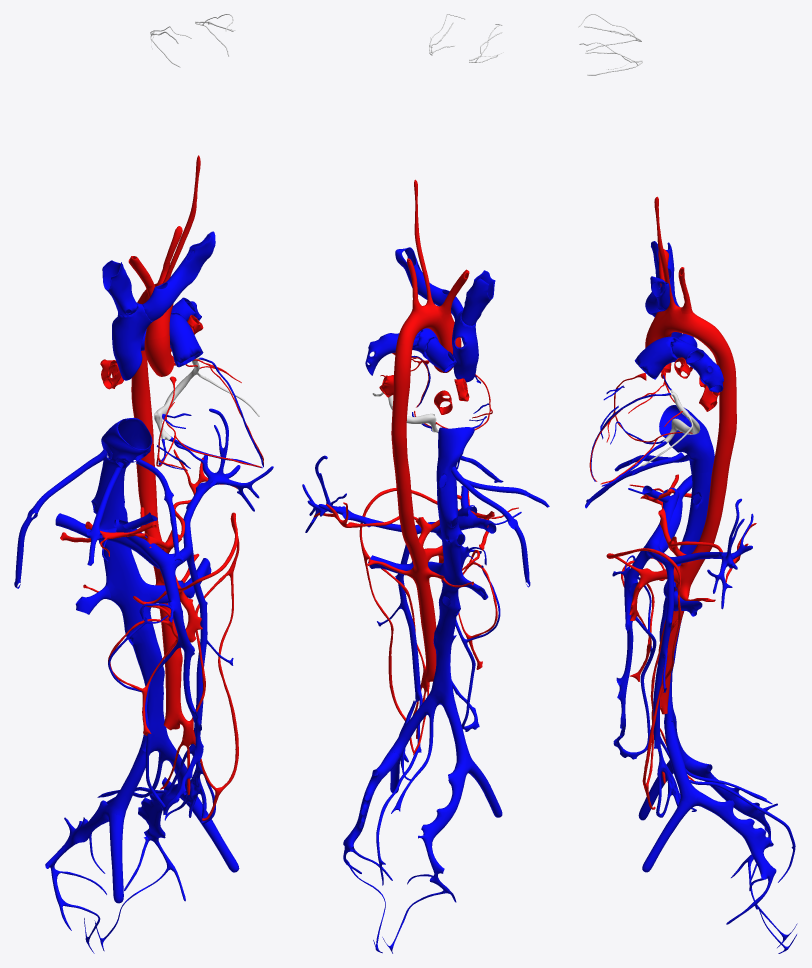
The model's file is vh_m_blood_vasculature-40.fbx.
3 renders of one model, left to right at view 1: azimuth 30°, elevation 25°; view 2: azimuth 150°, elevation 25°; view 3: azimuth 270°, elevation 25°, orthographic. The views are drawn at different scales.
Parts seen in each view (by area): view 1: VH_M_inferior_vena_cava_b, VH_M_descending_aorta_b, VH_M_superior_mesenteric_vein, VH_M_inferior_vena_cava_a, VH_M_splenic_vein, VH_M_brachiocephalic_vein_L, VH_M_superior_vena_cava, VH_M_marginal_artery_of_Drummond, VH_M_descending_aorta_a, VH_M_inferior_mesenteric_vein, VH_M_brachiocephalic_vein_R, VH_M_pulmonary_trunk (+18 smaller); view 2: VH_M_inferior_vena_cava_b, VH_M_descending_aorta_b, VH_M_descending_aorta_a, VH_M_inferior_vena_cava_a, VH_M_internal_iliac_vein_R, VH_M_aortic_arch, VH_M_superior_vena_cava, VH_M_splenic_vein, VH_M_internal_iliac_vein_L, VH_M_brachiocephalic_vein_R, VH_M_brachiocephalic_vein_L, VH_M_marginal_artery_of_Drummond (+8 smaller); view 3: VH_M_descending_aorta_a, VH_M_descending_aorta_b, VH_M_inferior_vena_cava_b, VH_M_inferior_vena_cava_a, VH_M_internal_iliac_vein_L, VH_M_aortic_arch, VH_M_splenic_vein, VH_M_superior_mesenteric_vein, VH_M_pulmonary_artery_L, VH_M_inferior_mesenteric_vein, VH_M_internal_iliac_vein_R, VH_M_marginal_artery_of_Drummond (+13 smaller).
Boxes of the visible parts, x1,y1,x2,y2 form: VH_M_inferior_vena_cava_b: (91,474,169,753); VH_M_descending_aorta_b: (136,459,182,730); VH_M_superior_mesenteric_vein: (158,564,203,812); VH_M_inferior_vena_cava_a: (101,417,152,482); VH_M_splenic_vein: (170,408,273,567); VH_M_brachiocephalic_vein_L: (142,231,215,321); VH_M_superior_vena_cava: (112,302,152,380); VH_M_marginal_artery_of_Drummond: (179,512,239,820); VH_M_descending_aorta_a: (131,297,154,461); VH_M_inferior_mesenteric_vein: (186,547,207,755); VH_M_brachiocephalic_vein_R: (102,260,137,315); VH_M_pulmonary_trunk: (169,313,203,367); VH_M_inferior_vena_cava_b: (429,489,465,707); VH_M_descending_aorta_b: (396,485,436,682); VH_M_descending_aorta_a: (391,343,412,489); VH_M_inferior_vena_cava_a: (436,427,474,493); VH_M_internal_iliac_vein_R: (418,762,468,883); VH_M_aortic_arch: (397,304,459,348); VH_M_superior_vena_cava: (452,310,478,382); VH_M_splenic_vein: (302,455,440,534); VH_M_internal_iliac_vein_L: (343,752,399,853); VH_M_brachiocephalic_vein_R: (461,270,495,325); VH_M_brachiocephalic_vein_L: (395,247,463,319); VH_M_marginal_artery_of_Drummond: (359,487,437,753); VH_M_descending_aorta_a: (709,334,736,488); VH_M_descending_aorta_b: (657,485,726,714); VH_M_inferior_vena_cava_b: (659,470,712,722); VH_M_inferior_vena_cava_a: (659,405,714,472); VH_M_internal_iliac_vein_L: (696,791,776,881); VH_M_aortic_arch: (647,306,721,348); VH_M_splenic_vein: (645,498,753,609); VH_M_superior_mesenteric_vein: (613,546,651,753); VH_M_pulmonary_artery_L: (670,338,723,392); VH_M_inferior_mesenteric_vein: (653,561,673,749); VH_M_internal_iliac_vein_R: (684,757,777,847); VH_M_marginal_artery_of_Drummond: (606,548,681,809).
Bounding box in the file's own units: 23.62 × 87.18 × 18.74.
